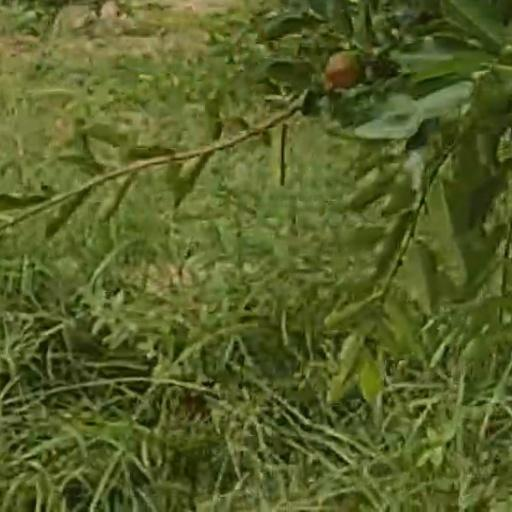acerola: (327, 51, 361, 90)
